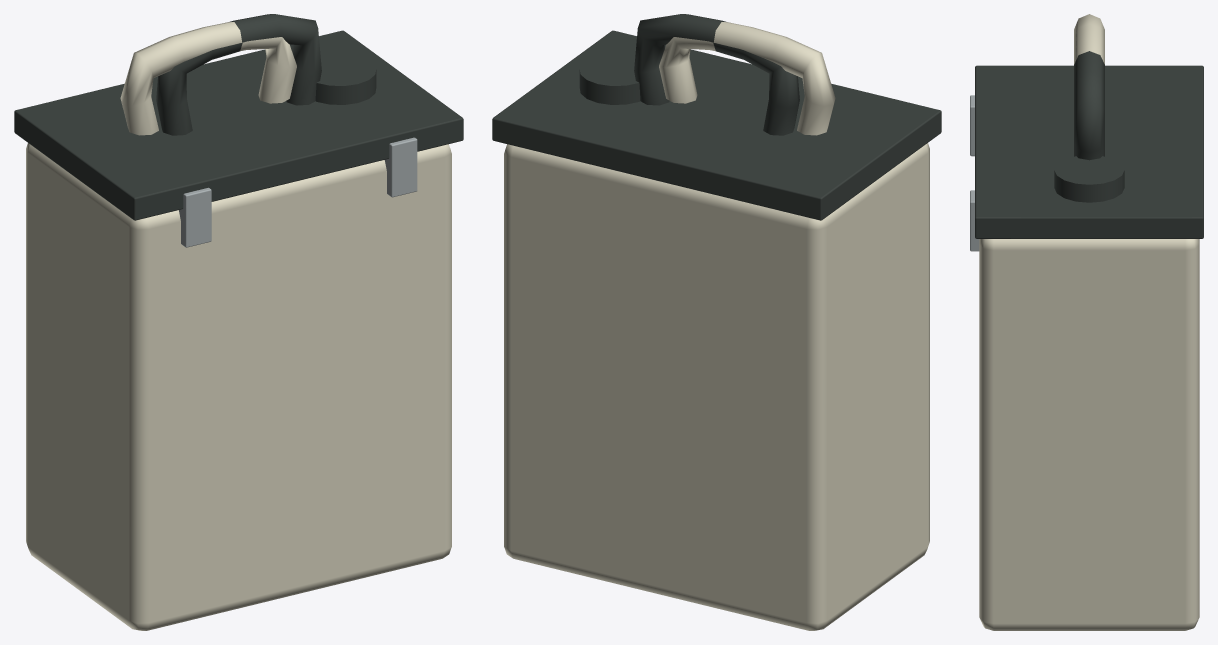
Rendered from water-collection-and-purification-water-canister-1f281e9b__20211.glb.
3 views of the same model, side by side, from view 1: azimuth 30°, elevation 25°; view 2: azimuth 150°, elevation 25°; view 3: azimuth 270°, elevation 25° (orthographic). The views are drawn at different scales.
Parts seen in each view (by area): view 1: water-canister, lid/dark; view 2: water-canister, lid/dark; view 3: water-canister, lid/dark.
Boxes of the visible parts, x1=… form: water-canister: x1=26, y1=14, x2=451, y2=630; lid/dark: x1=14, y1=30, x2=463, y2=220; water-canister: x1=504, y1=14, x2=929, y2=630; lid/dark: x1=492, y1=30, x2=941, y2=220; water-canister: x1=970, y1=14, x2=1199, y2=630; lid/dark: x1=975, y1=65, x2=1203, y2=238.
Size of the model in its own units: 0.328 by 0.5115 by 0.2125.
